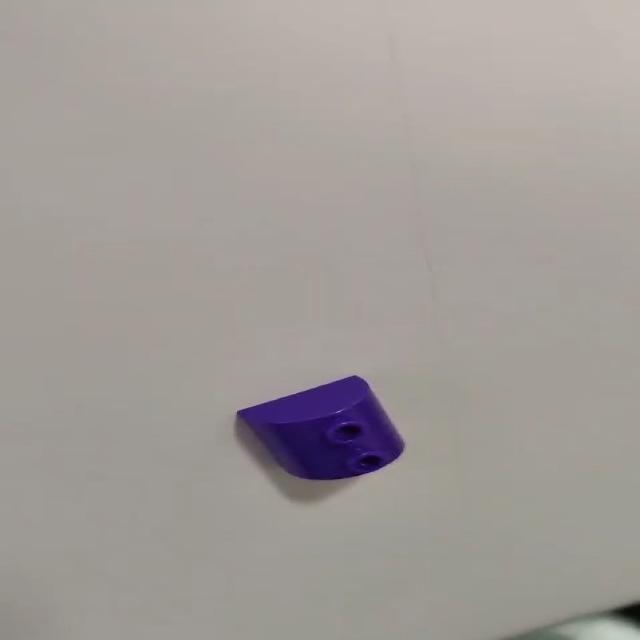H2x2x1: (236, 374, 404, 480)
